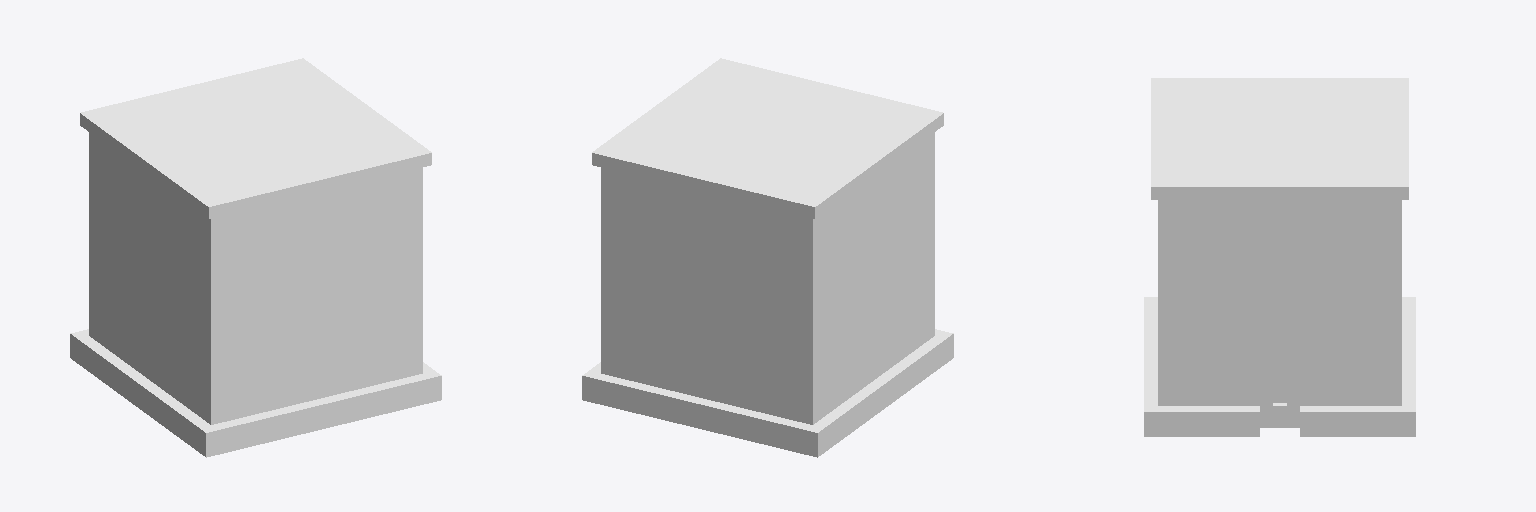
The model's file is buiding1.obj.
The picture shows the model from 3 angles: view 1: azimuth 30°, elevation 25°; view 2: azimuth 150°, elevation 25°; view 3: azimuth 270°, elevation 25°; orthographic projection.
Bounding box in the file's own units: 40 × 40 × 40.